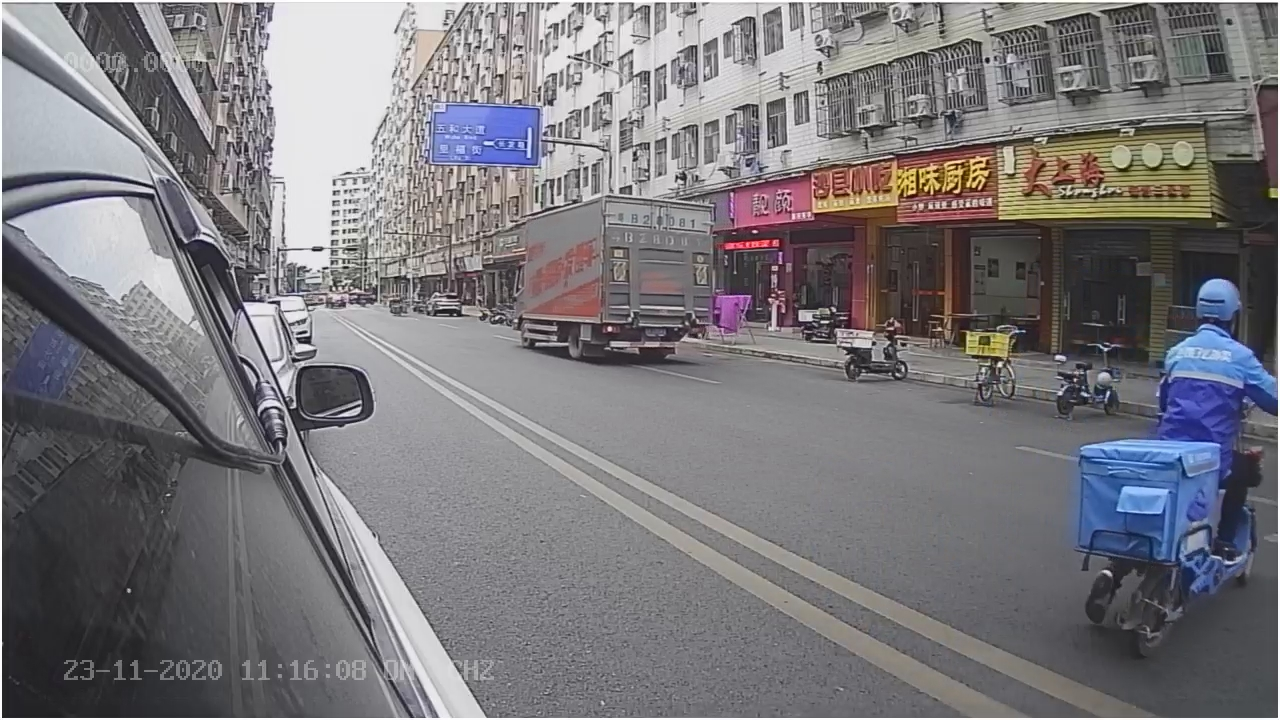person: (1152, 271, 1275, 418)
